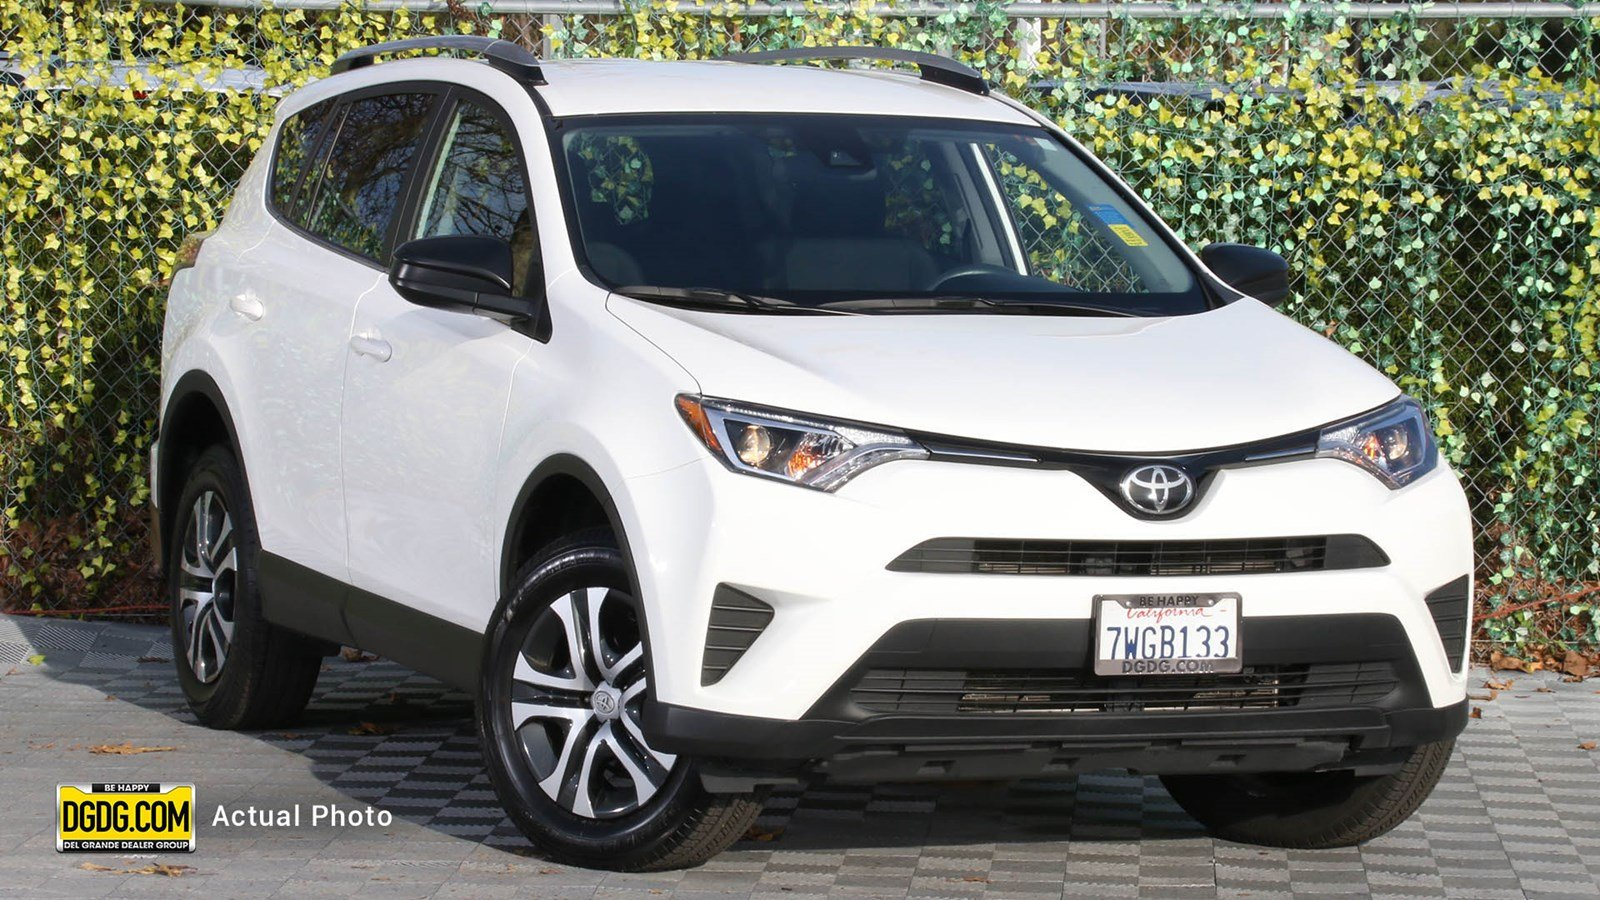White Toyota RAV-4: (144, 51, 1476, 876)
